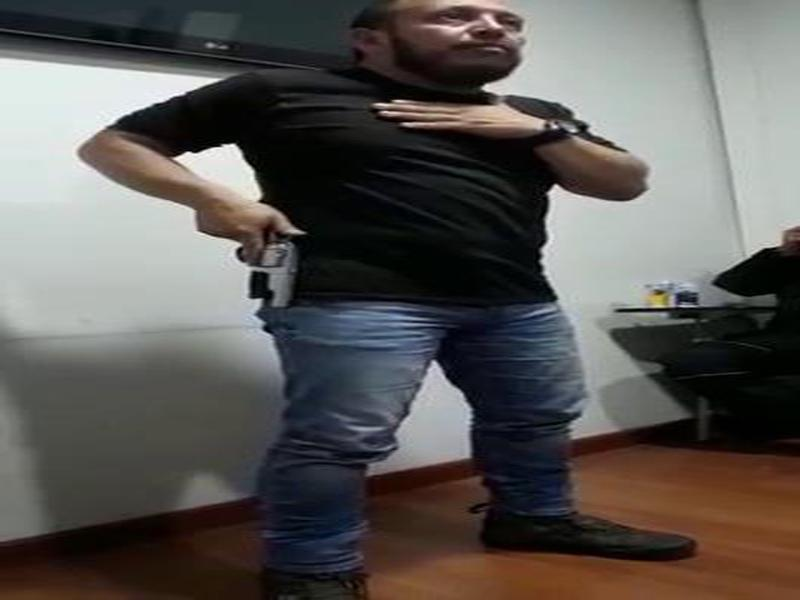Revolver: (221, 209, 312, 334)
